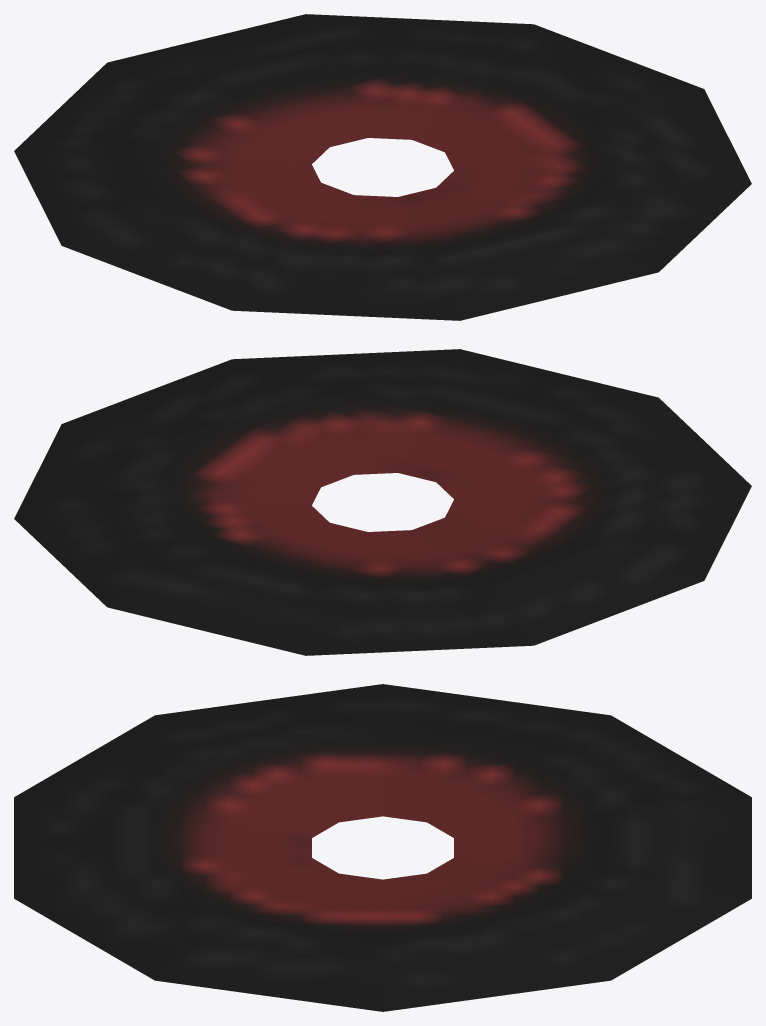
The picture shows the model from 3 angles, top to bottom: view 1: azimuth 30°, elevation 25°; view 2: azimuth 150°, elevation 25°; view 3: azimuth 270°, elevation 25°; orthographic projection. The views are drawn at different scales.
Parts seen in each view (by area): view 1: pTorus4; view 2: pTorus4; view 3: pTorus4.
Boxes of the visible parts, x1=… form: pTorus4: x1=14, y1=14, x2=751, y2=320; pTorus4: x1=14, y1=349, x2=751, y2=655; pTorus4: x1=14, y1=684, x2=751, y2=1011.
Size of the model in its own units: 165 by 4.77 by 157.
